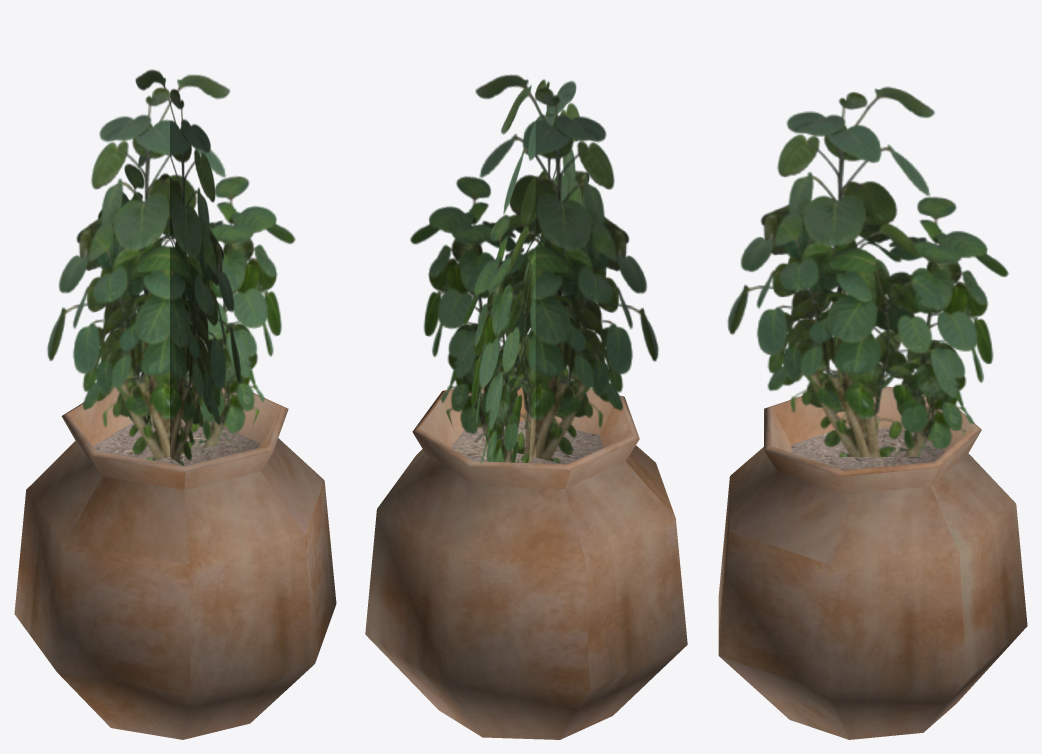
File: plant_5.glb
3 renders of one model, left to right at view 1: azimuth 30°, elevation 25°; view 2: azimuth 150°, elevation 25°; view 3: azimuth 270°, elevation 25°, orthographic. The views are drawn at different scales.
Parts seen in each view (by area): view 1: Plants; view 2: Plants; view 3: Plants.
Boxes of the visible parts, <box> form: Plants: <box>14,69,336,739</box>; Plants: <box>365,74,687,739</box>; Plants: <box>718,86,1027,739</box>.
Size of the model in its own units: 0.6967 by 1.51 by 0.6838.
2 materials, 2 textured.
